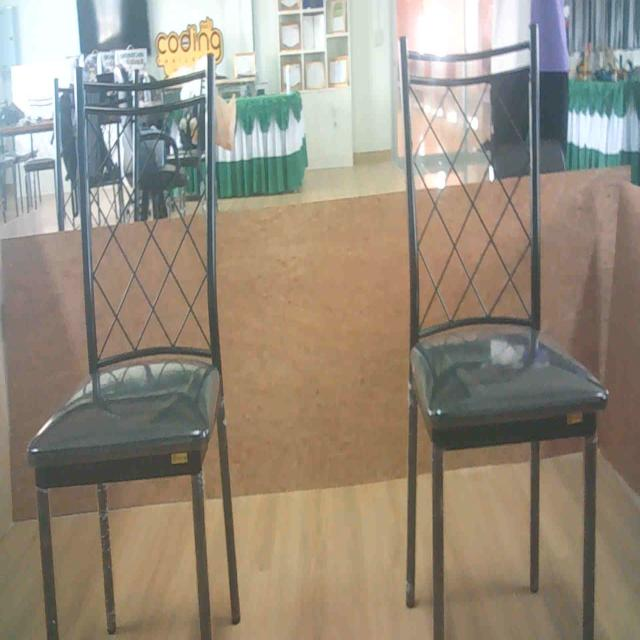empty: (23, 24, 224, 500), (392, 29, 613, 448)
